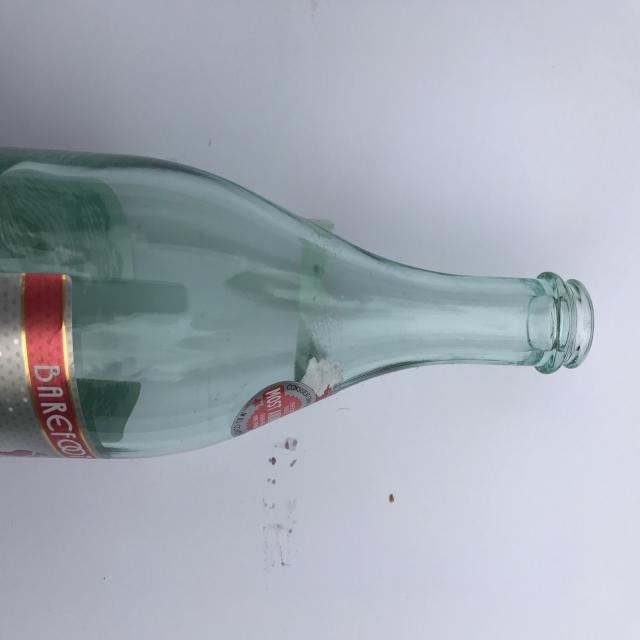glass: (0, 146, 595, 460)
